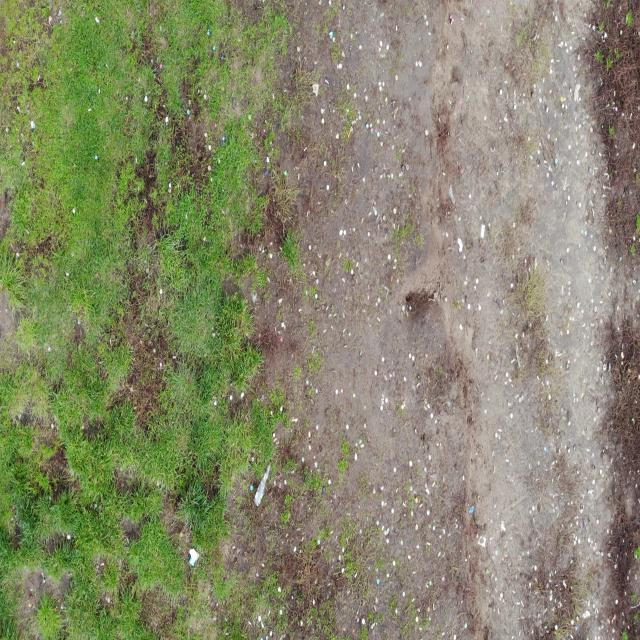rubbish: (252, 460, 273, 509), (187, 547, 202, 566)
